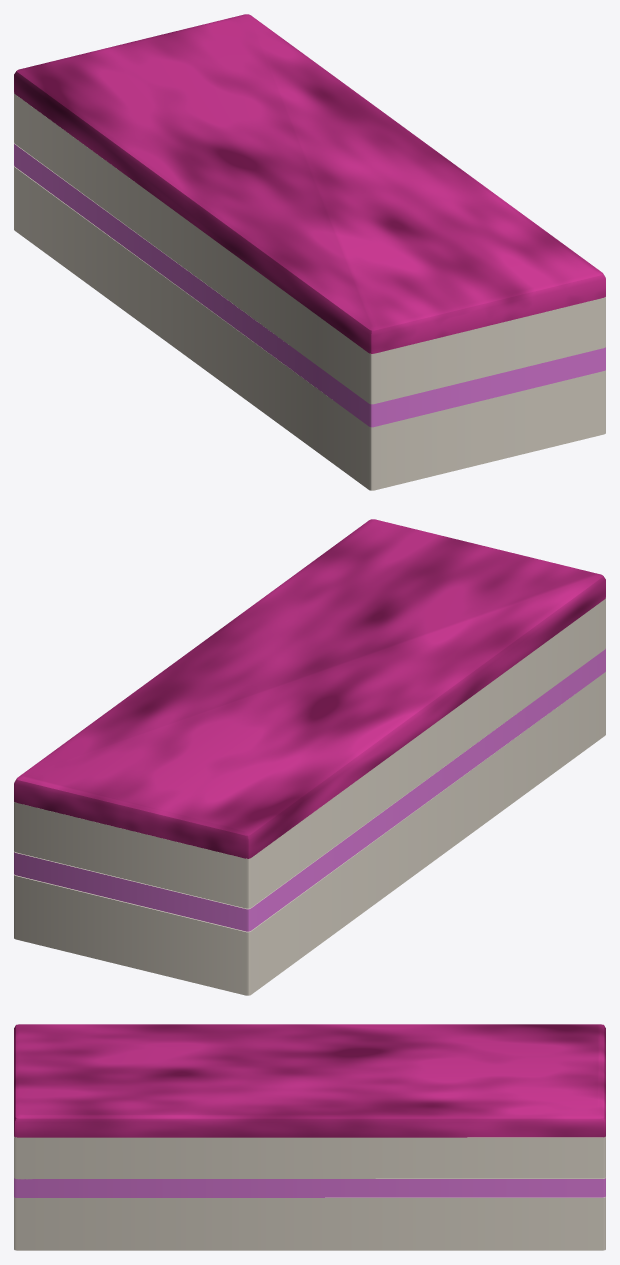
Rendered from caramella_rosa_base.fbx.
The picture shows the model from 3 angles, top to bottom: view 1: azimuth 30°, elevation 25°; view 2: azimuth 150°, elevation 25°; view 3: azimuth 270°, elevation 25°; orthographic projection. The views are drawn at different scales.
Visible parts, largest first — view 1: Cake.004; view 2: Cake.004; view 3: Cake.004.
Part boxes in pixels (box(x1,y1,x2,y2)): Cake.004: box(14, 14, 605, 490); Cake.004: box(14, 519, 605, 995); Cake.004: box(14, 1024, 605, 1250).
Size of the model in its own units: 17.06 by 11.08 by 44.75.
